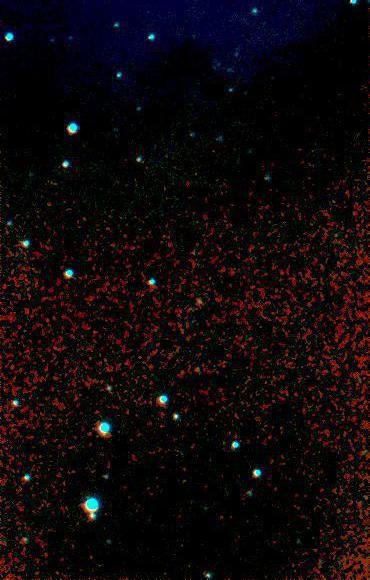star: (176, 22, 206, 52)
